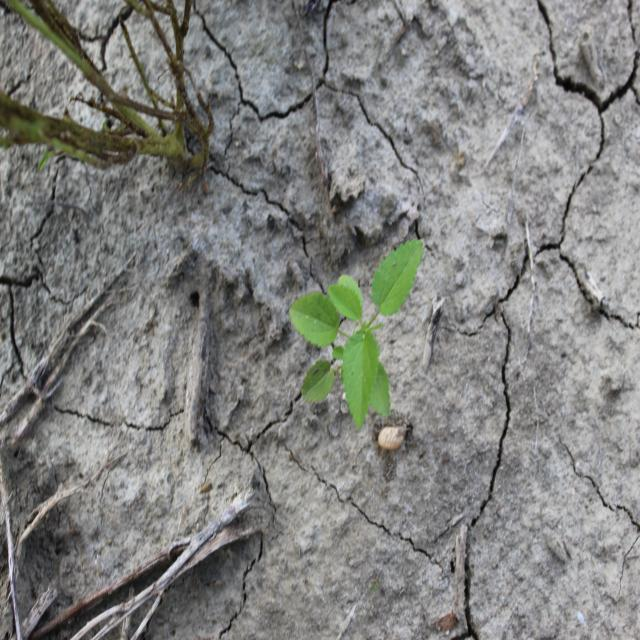PricklySida: (287, 237, 426, 434)
